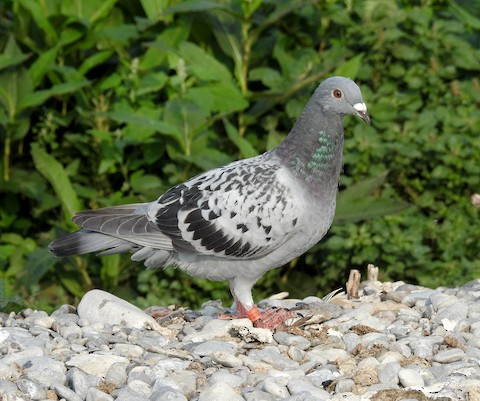pigeon: (46, 68, 374, 327)
